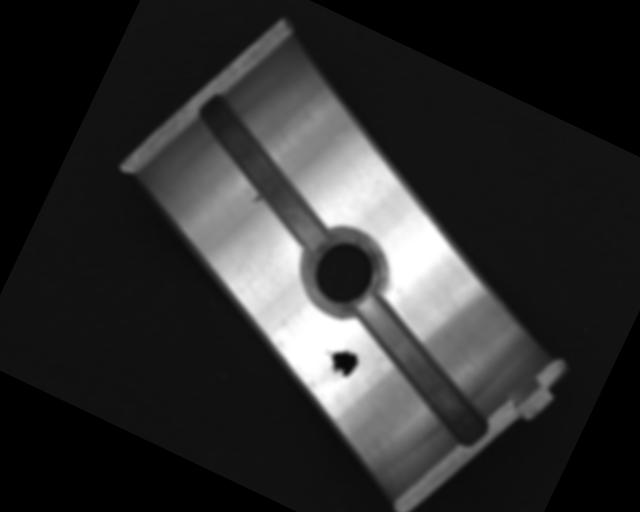blot: (315, 340, 363, 389)
bruise: (250, 191, 265, 207)
gap: (165, 92, 359, 255), (325, 294, 515, 451)
hole: (292, 219, 393, 324)
